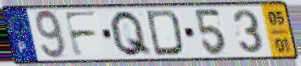3: (231, 8, 265, 56)
5: (193, 6, 228, 57)
9: (35, 8, 69, 62)
D: (145, 9, 186, 58)
F: (62, 10, 100, 59)
Q: (108, 9, 155, 58)
